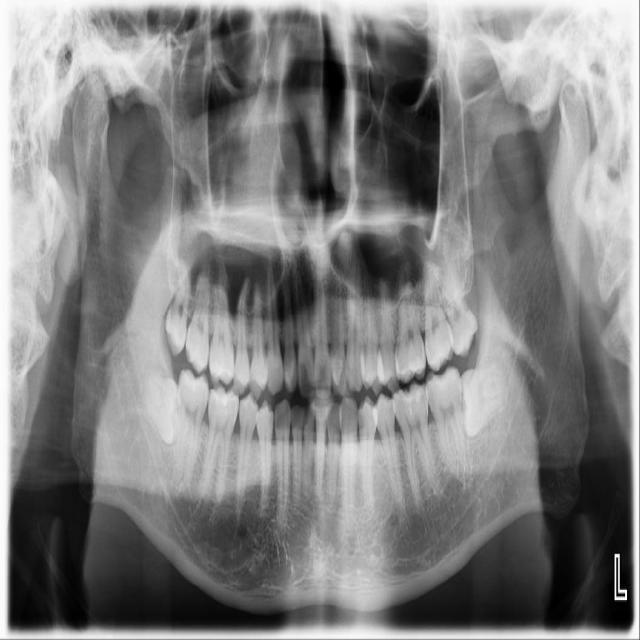3M ESPE Implant: (162, 256, 195, 357)
52: (388, 379, 436, 436)
73: (616, 606, 626, 628)
BioHorizons Implant: (420, 257, 455, 373)
BioLife Implant: (428, 252, 485, 361)
Biomet 3i Implant: (457, 358, 512, 438)
Blue Sky Bio Implant: (423, 363, 470, 478)
Caries: (185, 259, 212, 375)
Implant: (173, 366, 210, 485)
Keystone Dental Implant: (140, 370, 181, 444)
